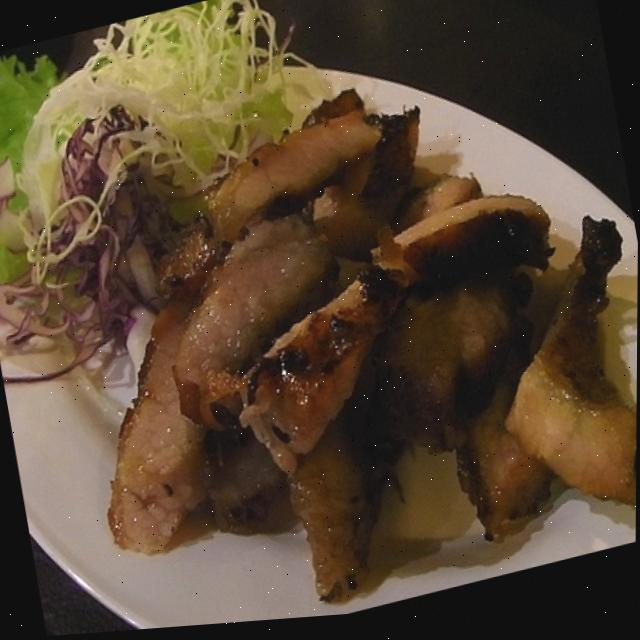猪肉菜式: (31, 21, 640, 638)
